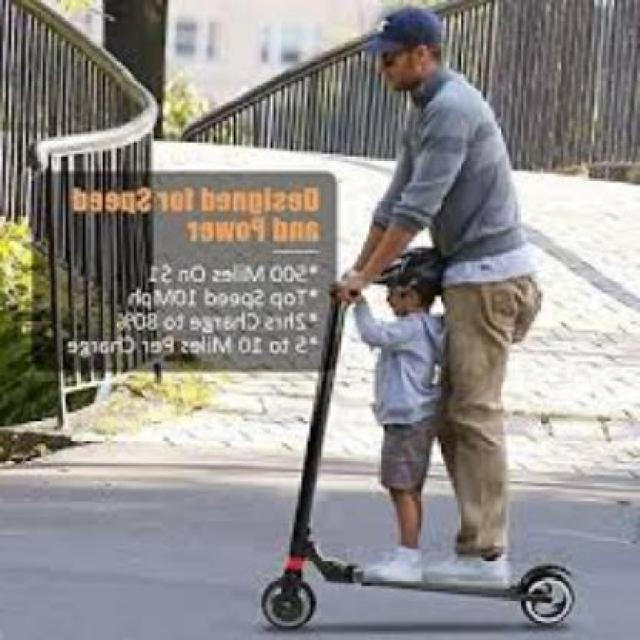pedestrian: (261, 7, 576, 631)
